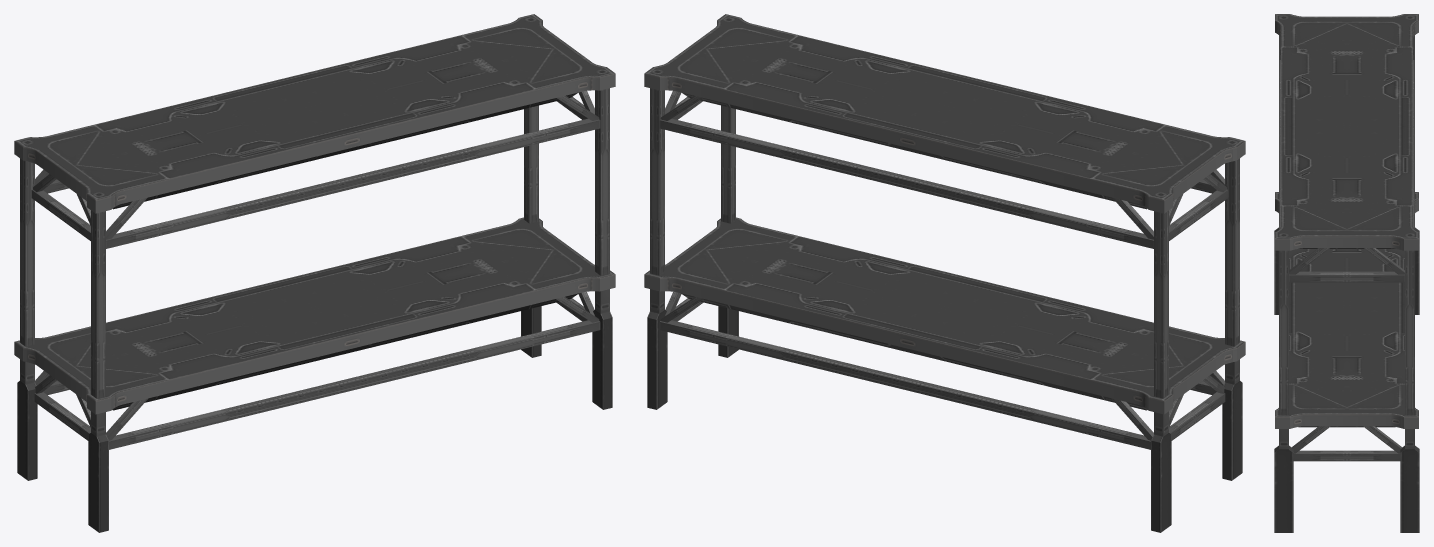
File: q-scifi-ess-prop-shelves-wideshort.glb
3 views of the same model, side by side, from view 1: azimuth 30°, elevation 25°; view 2: azimuth 150°, elevation 25°; view 3: azimuth 270°, elevation 25° (orthographic). The views are drawn at different scales.
Visible parts, largest first — view 1: Prop_Shelves_WideShort; view 2: Prop_Shelves_WideShort; view 3: Prop_Shelves_WideShort.
Part boxes in pixels (bbox=[...]): Prop_Shelves_WideShort: bbox=[14, 14, 615, 532]; Prop_Shelves_WideShort: bbox=[644, 14, 1245, 532]; Prop_Shelves_WideShort: bbox=[1274, 14, 1419, 532].
Bounding box in the file's own units: 1.98 × 1.21 × 0.5407.
1 material, 1 textured.
